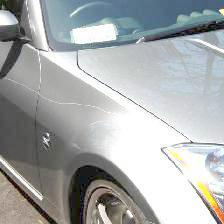door_scratch: (0, 77, 148, 120)
